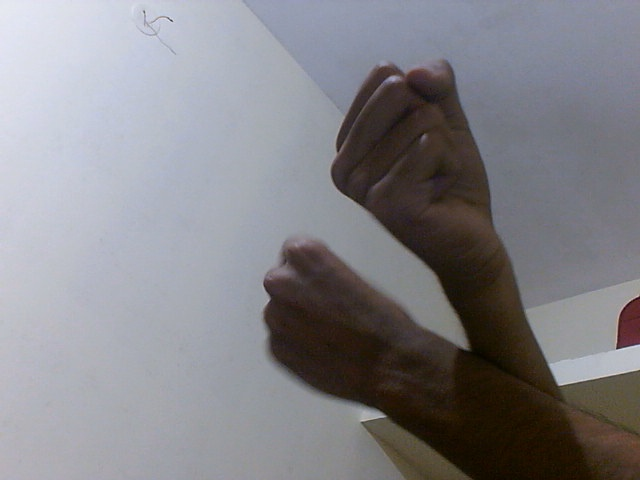hand: (326, 53, 510, 274), (259, 231, 429, 418)
